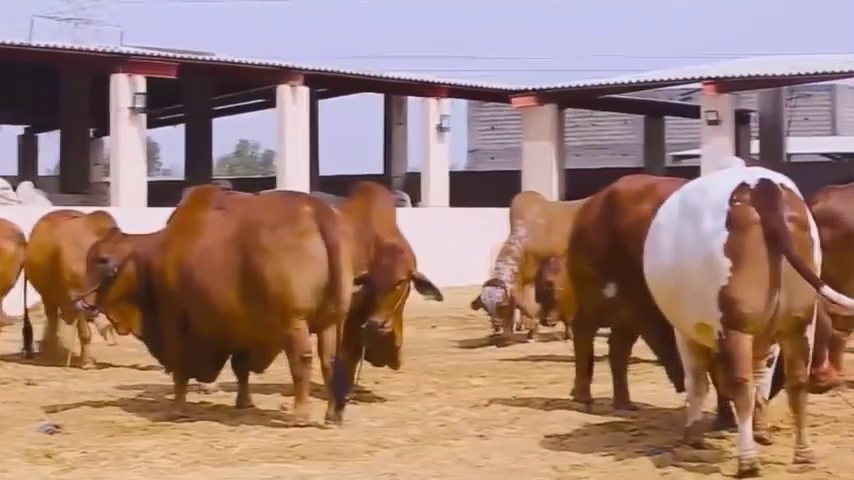bo: (76, 180, 339, 432), (638, 155, 823, 476), (311, 161, 452, 414), (555, 150, 687, 415), (13, 183, 128, 386), (469, 172, 573, 354), (796, 169, 854, 403), (525, 231, 579, 344), (3, 212, 38, 327)
